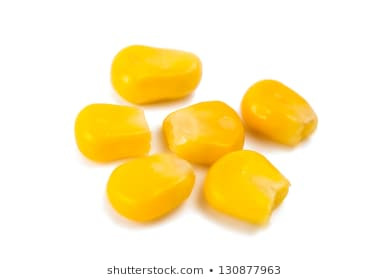corn: (201, 144, 294, 228), (106, 155, 197, 226), (158, 98, 245, 165), (109, 44, 203, 106), (241, 80, 317, 150), (74, 101, 153, 163)
